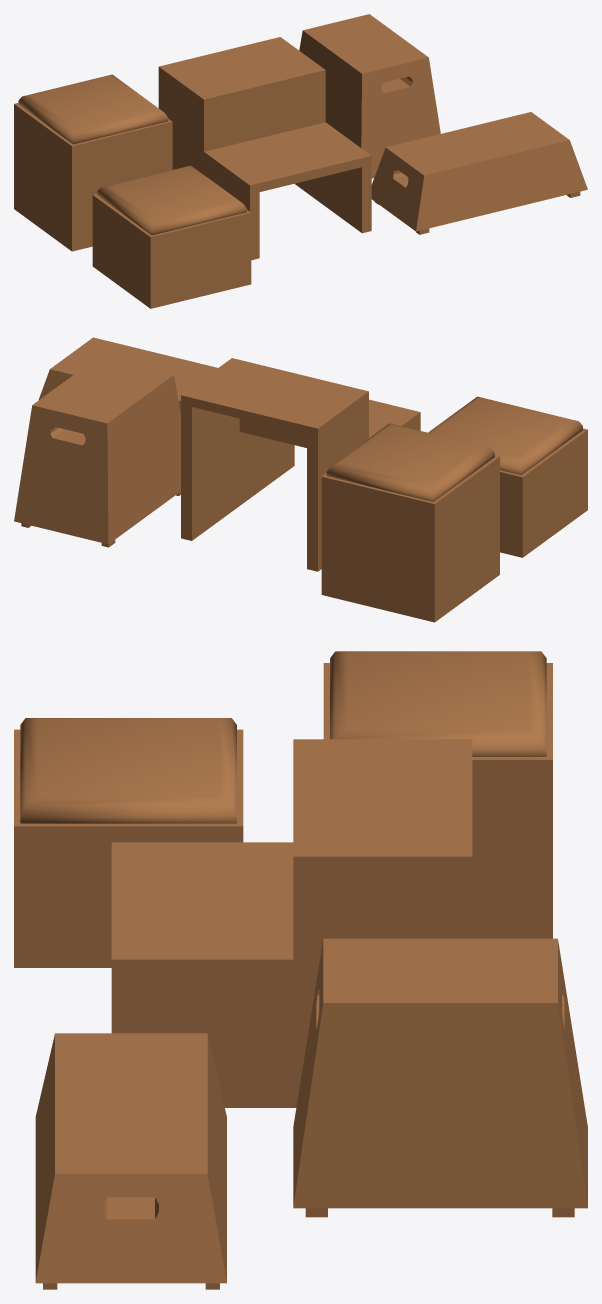
Rendered from FREE_LowPoly_Crossfit_-_Jumping_Boxes.glb.
The picture shows the model from 3 angles, top to bottom: view 1: azimuth 30°, elevation 25°; view 2: azimuth 150°, elevation 25°; view 3: azimuth 270°, elevation 25°; orthographic projection. The views are drawn at different scales.
Parts seen in each view (by area): view 1: Cube.015_bois_0, Cube.016_bois_0, Cube.006_bois_0, Cube.007_bois_0, Cube.014_bois_0, Cube.007_assise_0, Cube.014_assise_0; view 2: Cube.006_bois_0, Cube.015_bois_0, Cube.007_bois_0, Cube.007_assise_0, Cube.014_bois_0, Cube.014_assise_0, Cube.016_bois_0; view 3: Cube.015_bois_0, Cube.006_bois_0, Cube.016_bois_0, Cube.014_assise_0, Cube.007_assise_0, Cube.014_bois_0, Cube.007_bois_0.
Boxes of the visible parts, x1,y1,x2,y2 form: Cube.015_bois_0: (158, 37, 371, 260); Cube.016_bois_0: (371, 112, 587, 234); Cube.006_bois_0: (299, 14, 440, 178); Cube.007_bois_0: (14, 103, 172, 251); Cube.014_bois_0: (92, 194, 251, 308); Cube.007_assise_0: (18, 74, 168, 144); Cube.014_assise_0: (97, 165, 246, 235); Cube.006_bois_0: (14, 356, 180, 547); Cube.015_bois_0: (181, 358, 420, 571); Cube.007_bois_0: (321, 455, 499, 622); Cube.007_assise_0: (326, 423, 494, 501); Cube.014_bois_0: (500, 428, 587, 557); Cube.014_assise_0: (428, 396, 582, 475); Cube.016_bois_0: (38, 337, 217, 413); Cube.015_bois_0: (111, 739, 472, 1107); Cube.006_bois_0: (293, 938, 587, 1217); Cube.016_bois_0: (35, 1033, 226, 1289); Cube.014_assise_0: (20, 718, 236, 823); Cube.007_assise_0: (330, 651, 546, 756); Cube.014_bois_0: (14, 729, 243, 967); Cube.007_bois_0: (323, 663, 552, 938).
Bounding box in the file's own units: 1.3 × 0.3582 × 0.7411.
